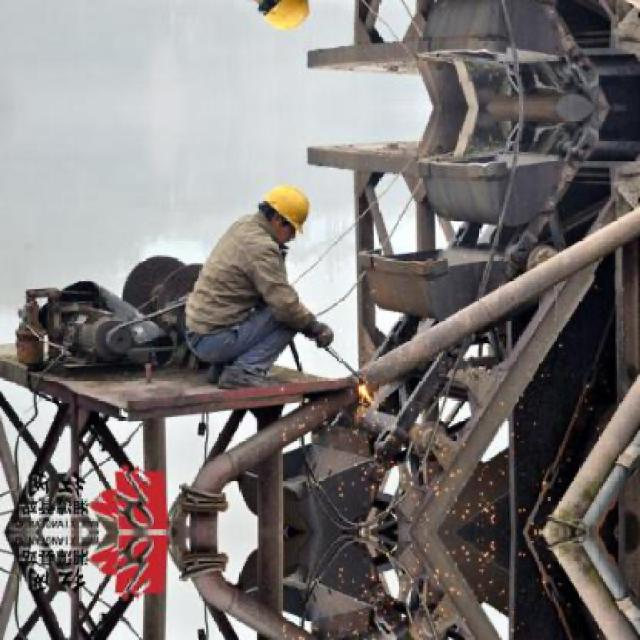helmet: (250, 177, 316, 245), (249, 0, 317, 37)
